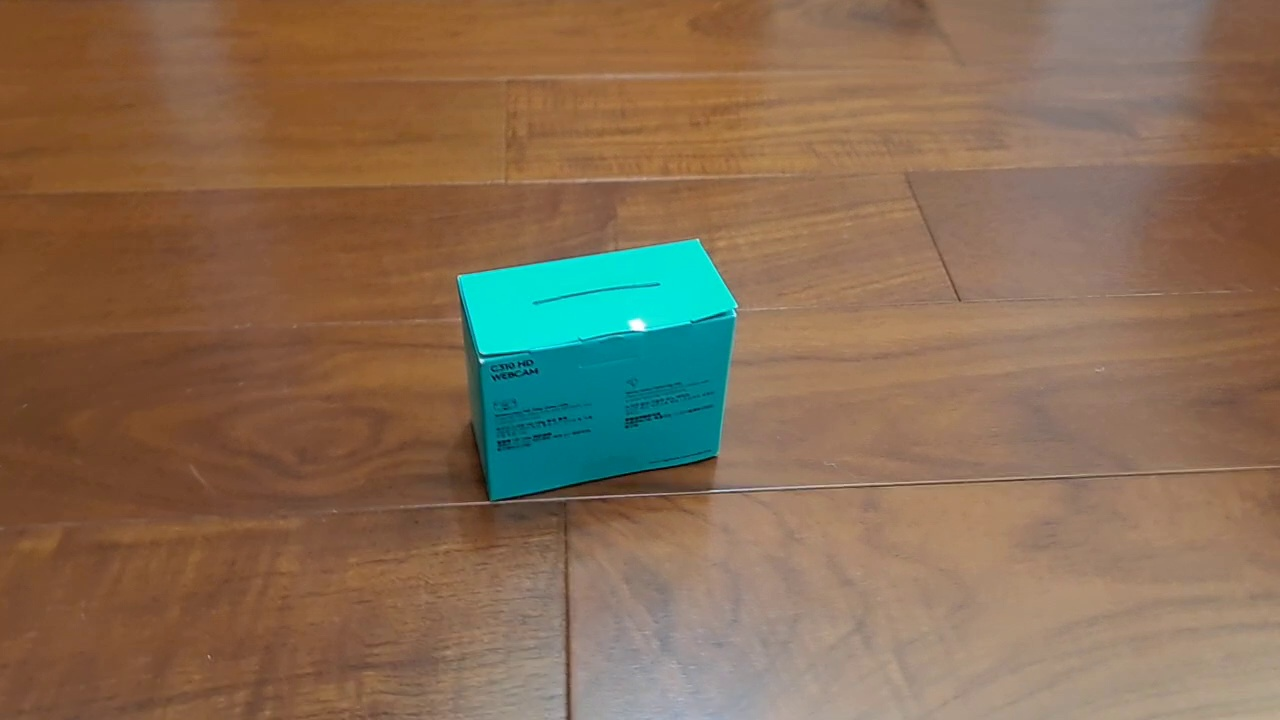webcam: (456, 236, 740, 502)
